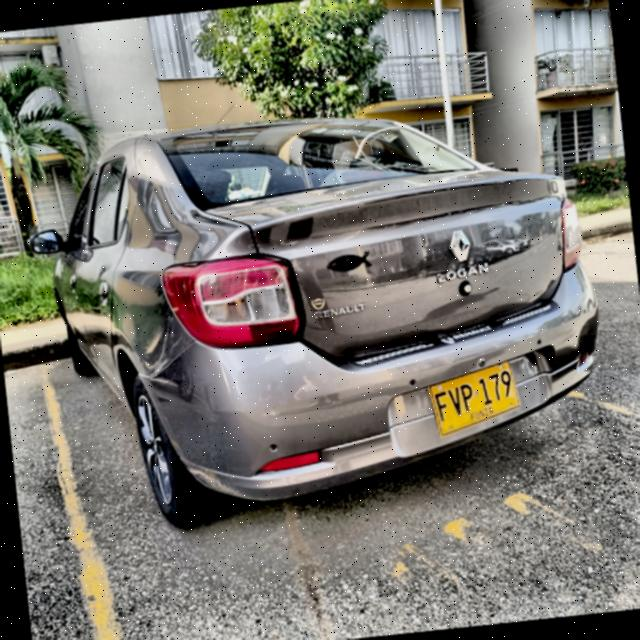plate: (428, 361, 519, 436)
